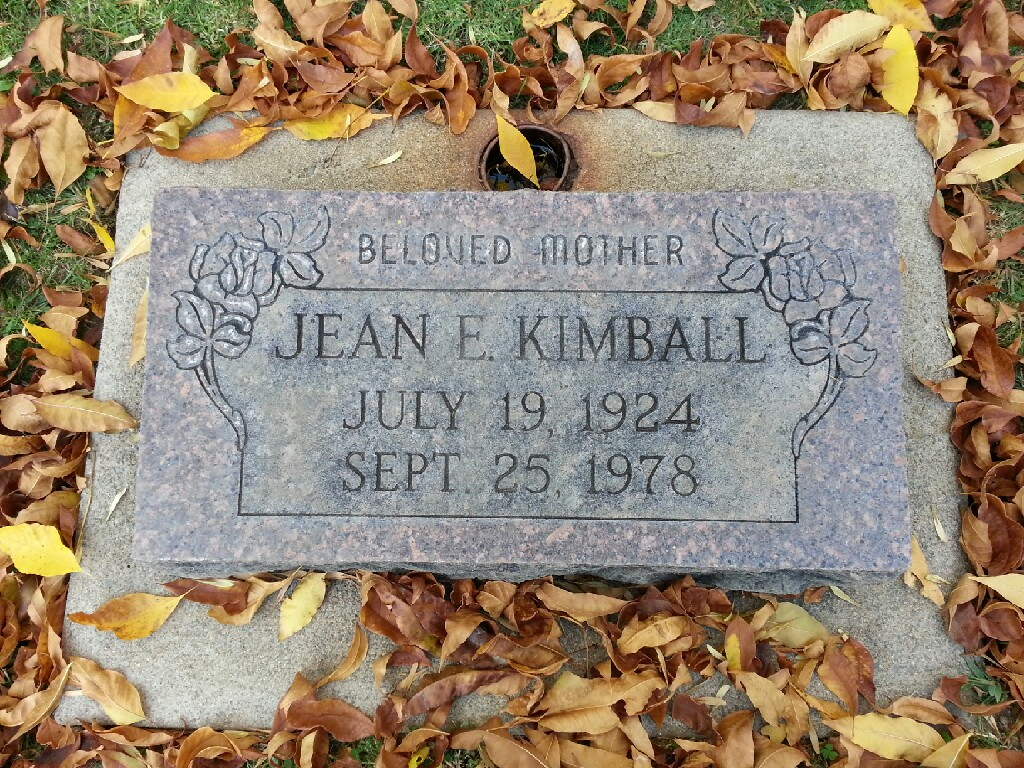flat: (55, 107, 981, 734)
